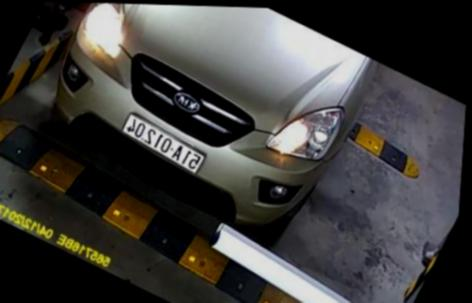License_Plate: (118, 112, 212, 182)
